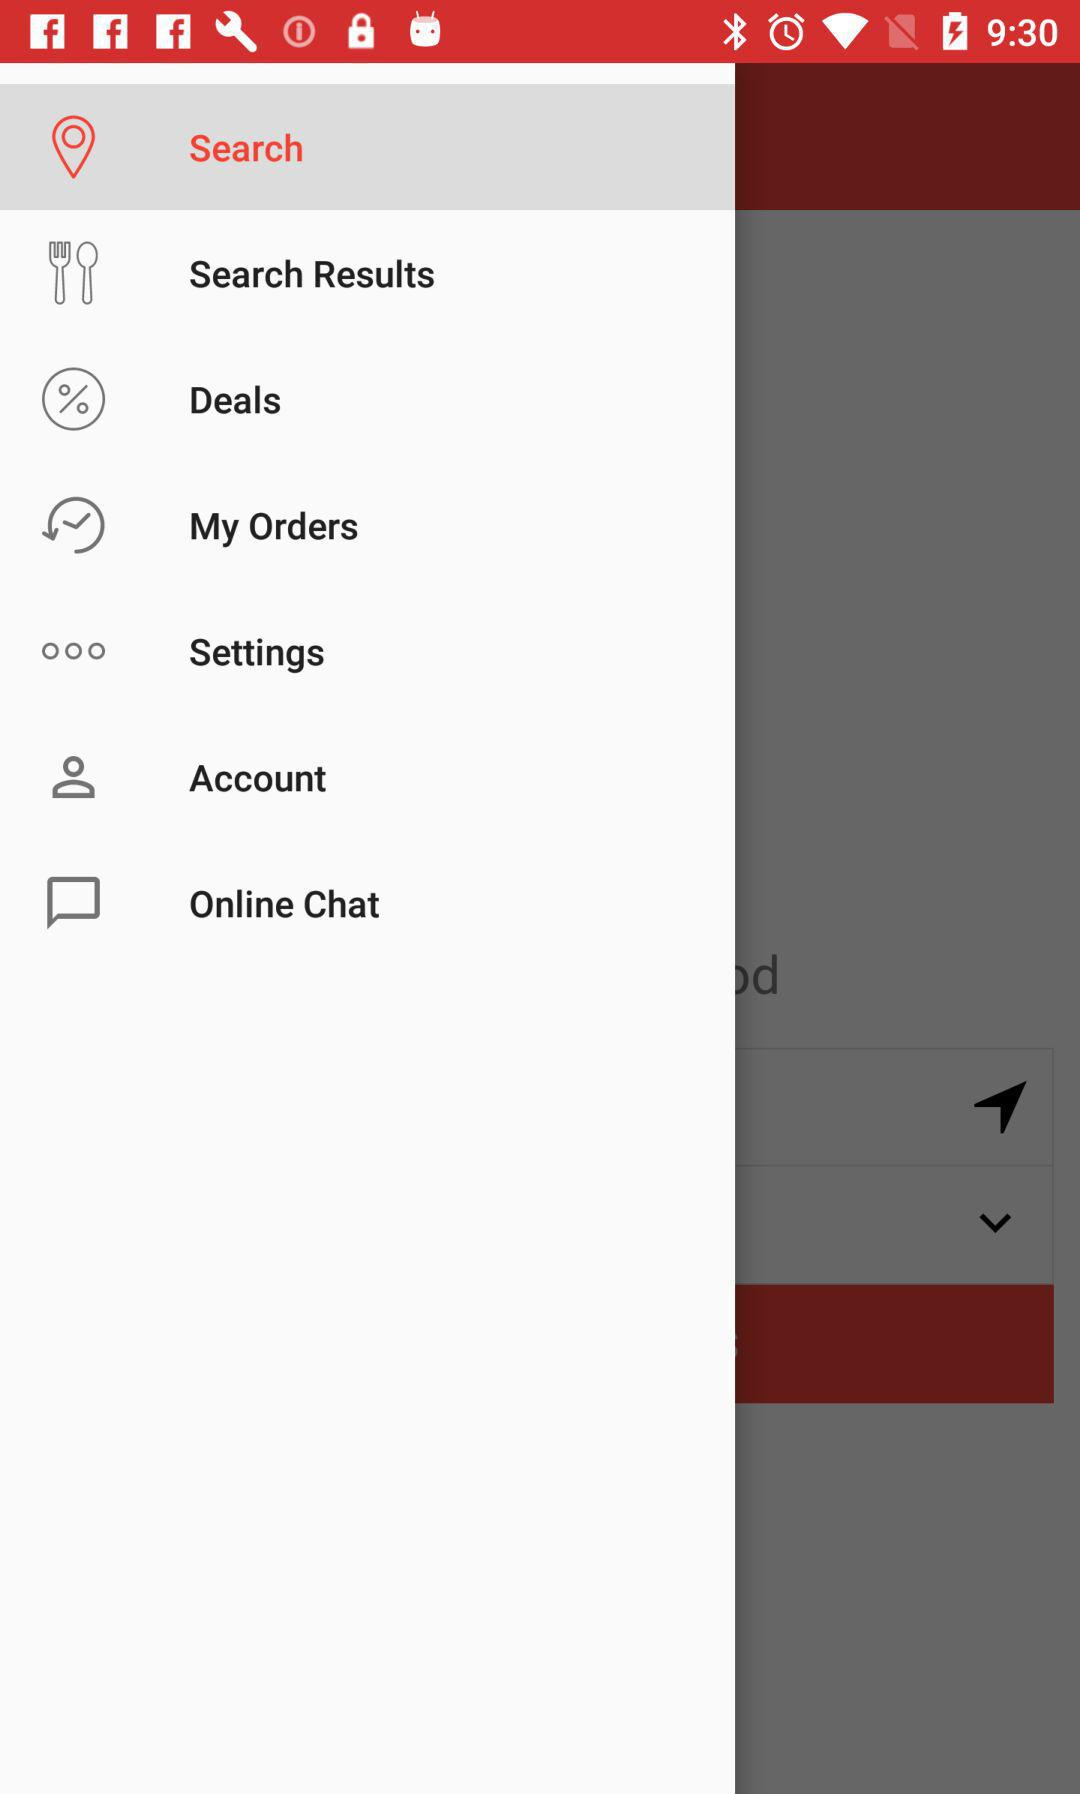Drawer: (1, 64, 735, 1794)
Icon: (42, 366, 108, 433), (42, 496, 108, 556), (47, 240, 100, 308), (972, 1082, 1027, 1137), (47, 876, 102, 932), (51, 115, 97, 181), (51, 755, 97, 800), (41, 642, 108, 662), (979, 1214, 1012, 1233)
Text: (190, 258, 436, 291), (190, 510, 359, 550), (190, 887, 382, 920), (190, 636, 325, 675), (190, 762, 328, 794), (190, 132, 305, 165), (190, 384, 283, 416)
UpperTaskBar: (1, 1, 1080, 64)
